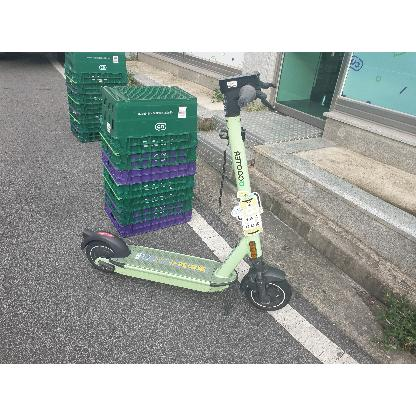bike: (80, 71, 293, 312)
